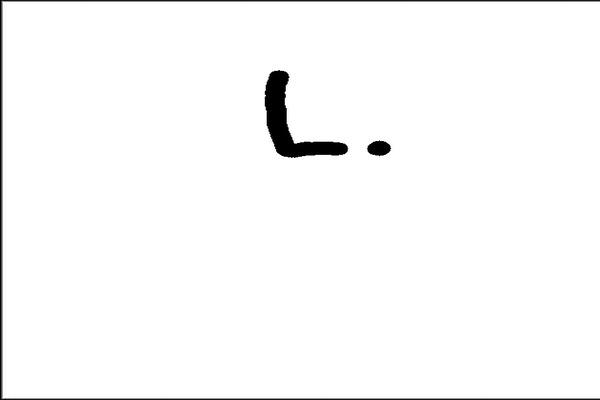L: (256, 64, 355, 163)
